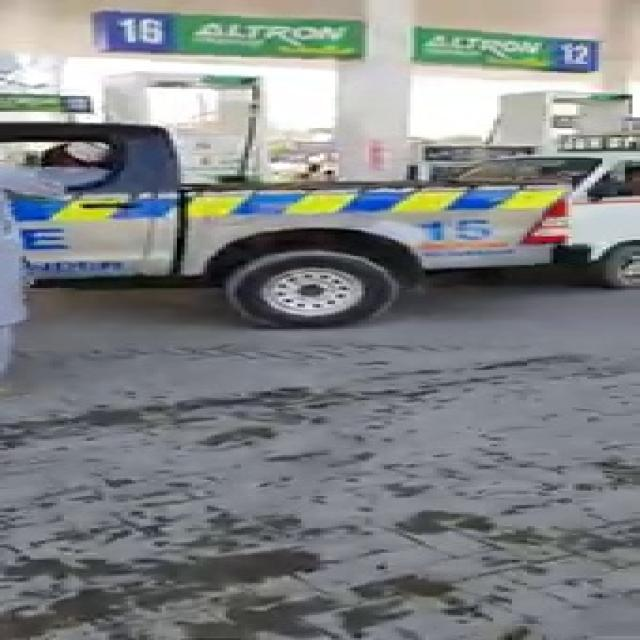police: (0, 113, 634, 319)
